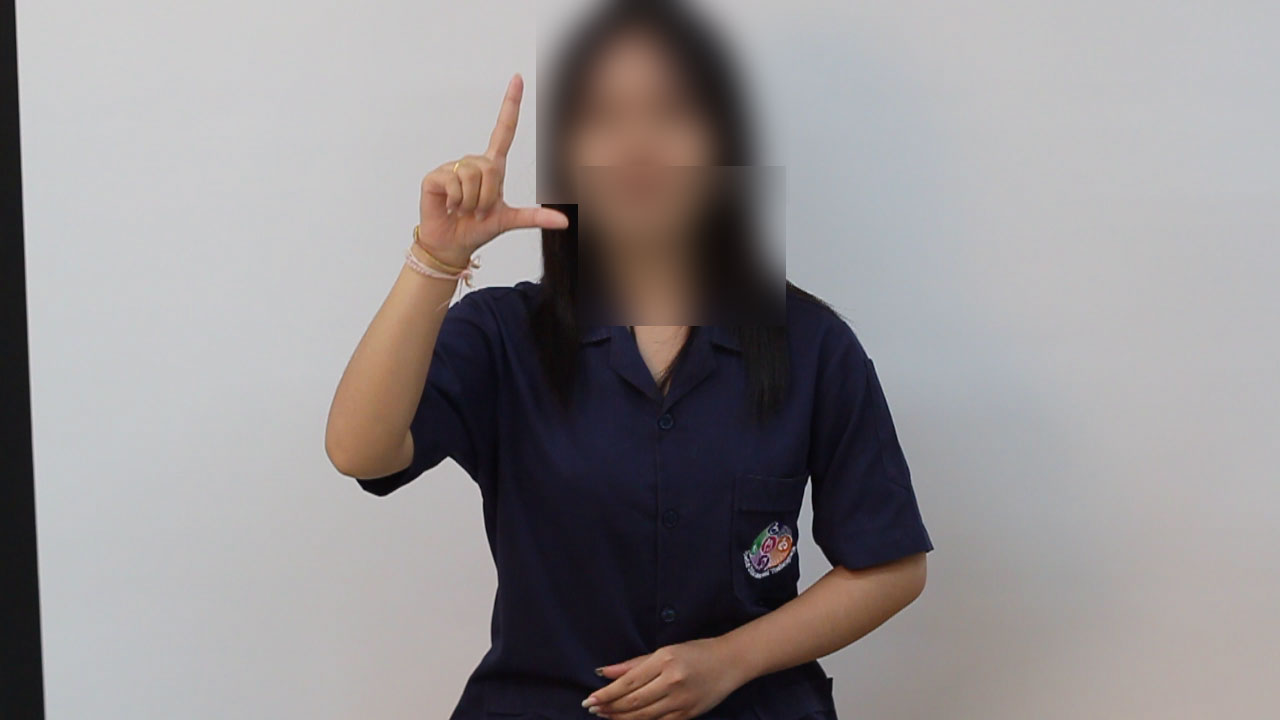lor: (355, 54, 622, 309)
